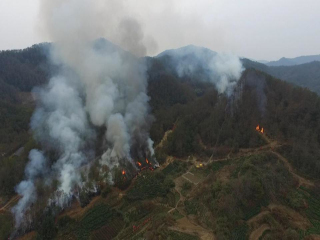smoke: (24, 5, 161, 204), (174, 39, 246, 98)
